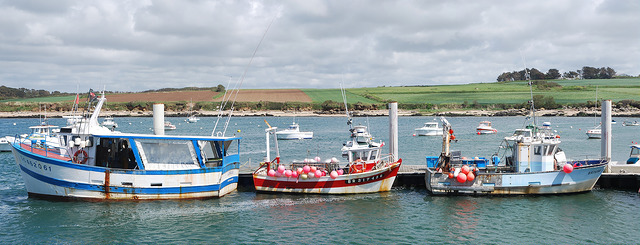boat: (273, 117, 313, 143), (579, 109, 606, 141), (470, 113, 499, 140), (414, 115, 445, 136)
fishing_boat: (10, 99, 238, 207), (422, 121, 606, 198), (250, 125, 401, 195)
